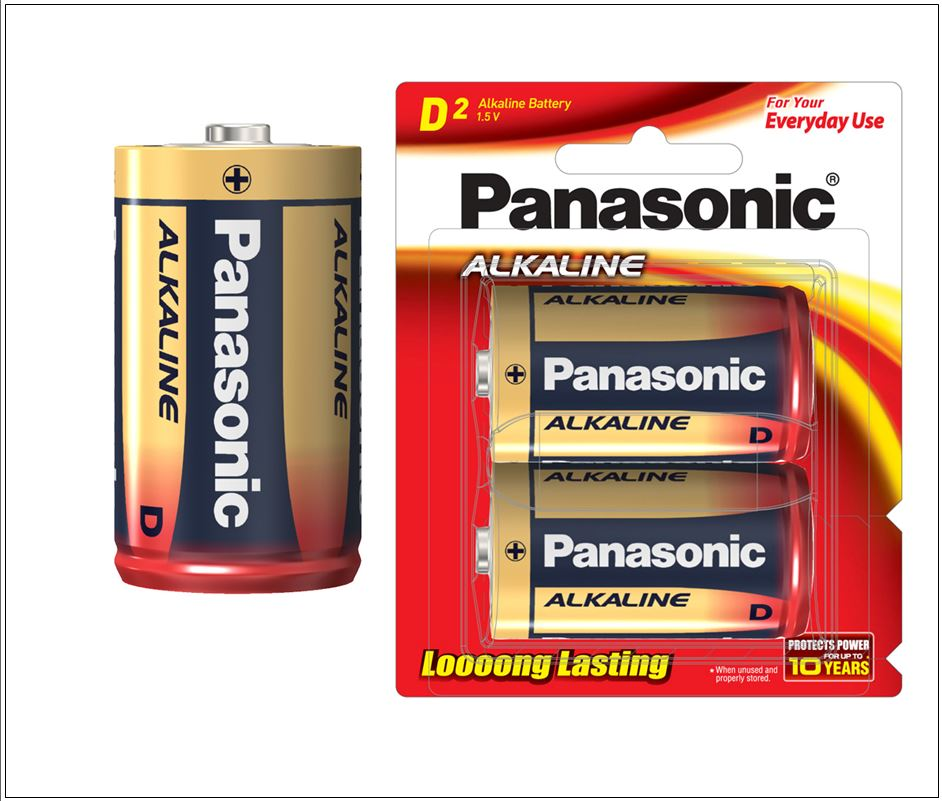Battery: (109, 117, 367, 596), (473, 281, 821, 463), (473, 465, 820, 646)
